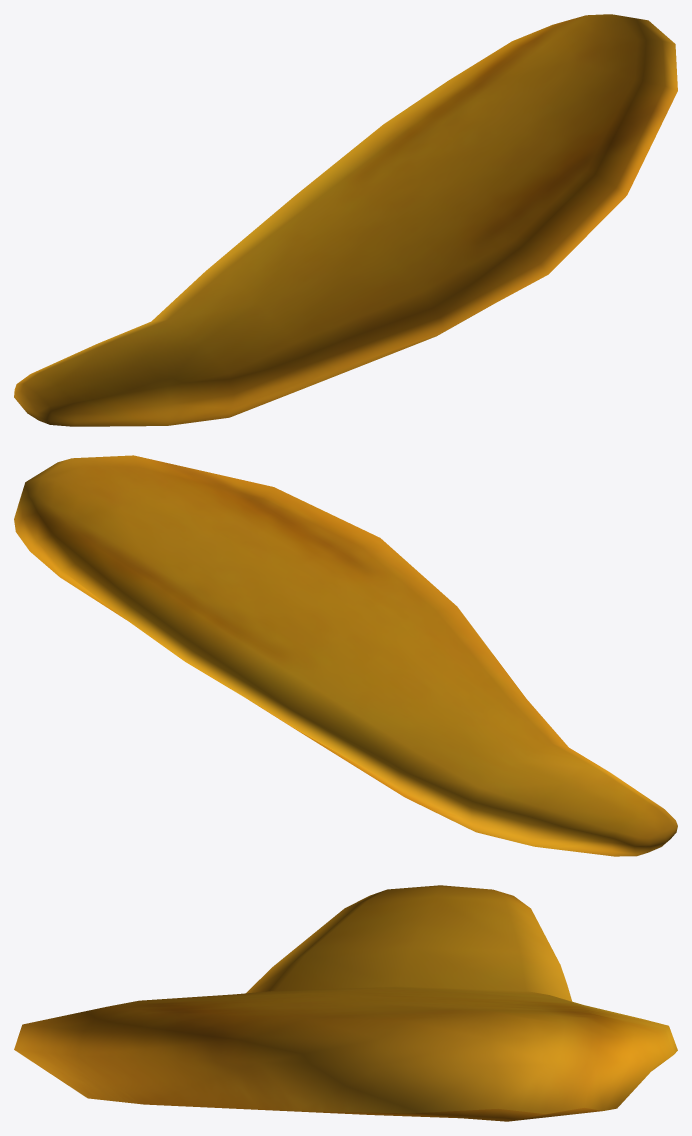
File: alaIzquierdaWoodstock.obj
3 views of the same model, one above another, from view 1: azimuth 30°, elevation 25°; view 2: azimuth 150°, elevation 25°; view 3: azimuth 270°, elevation 25° (orthographic). The views are drawn at different scales.
Visible parts, largest first — view 1: alaIzquierdaWoodstock; view 2: alaIzquierdaWoodstock; view 3: alaIzquierdaWoodstock.
Part boxes in pixels (bbox=[...]): alaIzquierdaWoodstock: bbox=[14, 14, 677, 426]; alaIzquierdaWoodstock: bbox=[14, 455, 677, 856]; alaIzquierdaWoodstock: bbox=[14, 885, 677, 1121].
Size of the model in its own units: 0.2157 by 0.0791 by 0.1035.
Materials: 1 (1 with a texture image).
